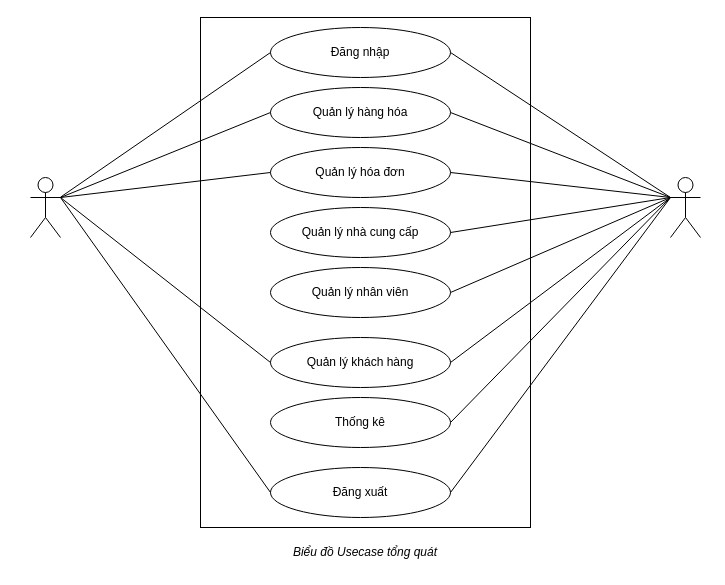
The diagram is 725 pixels wide and 585 high, and some of its shapes have lost their labels. Each missing label, with the box of its shape:
Nhân viên: (30, 176, 60, 238)
Quản lý: (670, 176, 700, 238)
